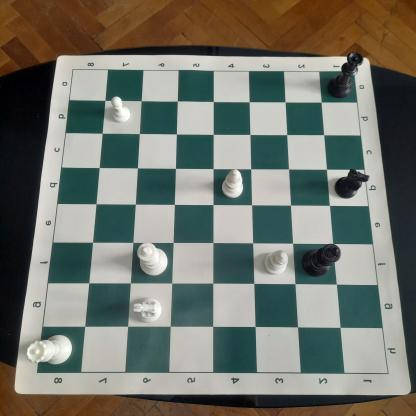black-king: (300, 240, 342, 279)
black-knight: (330, 165, 370, 201)
black-queen: (326, 49, 364, 100)
white-bishop: (218, 167, 246, 202), (260, 248, 291, 279)
white-king: (134, 239, 171, 281)
white-knight: (128, 293, 165, 326)
white-pawn: (108, 93, 133, 124)
white-queen: (25, 330, 74, 370)
